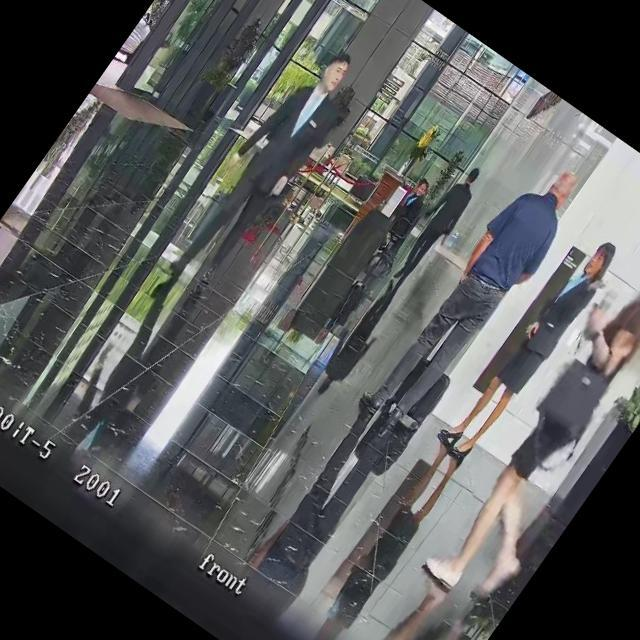person: (410, 214, 640, 617), (353, 146, 594, 447), (156, 32, 372, 302), (430, 223, 626, 472), (378, 159, 492, 304), (372, 175, 440, 258)
